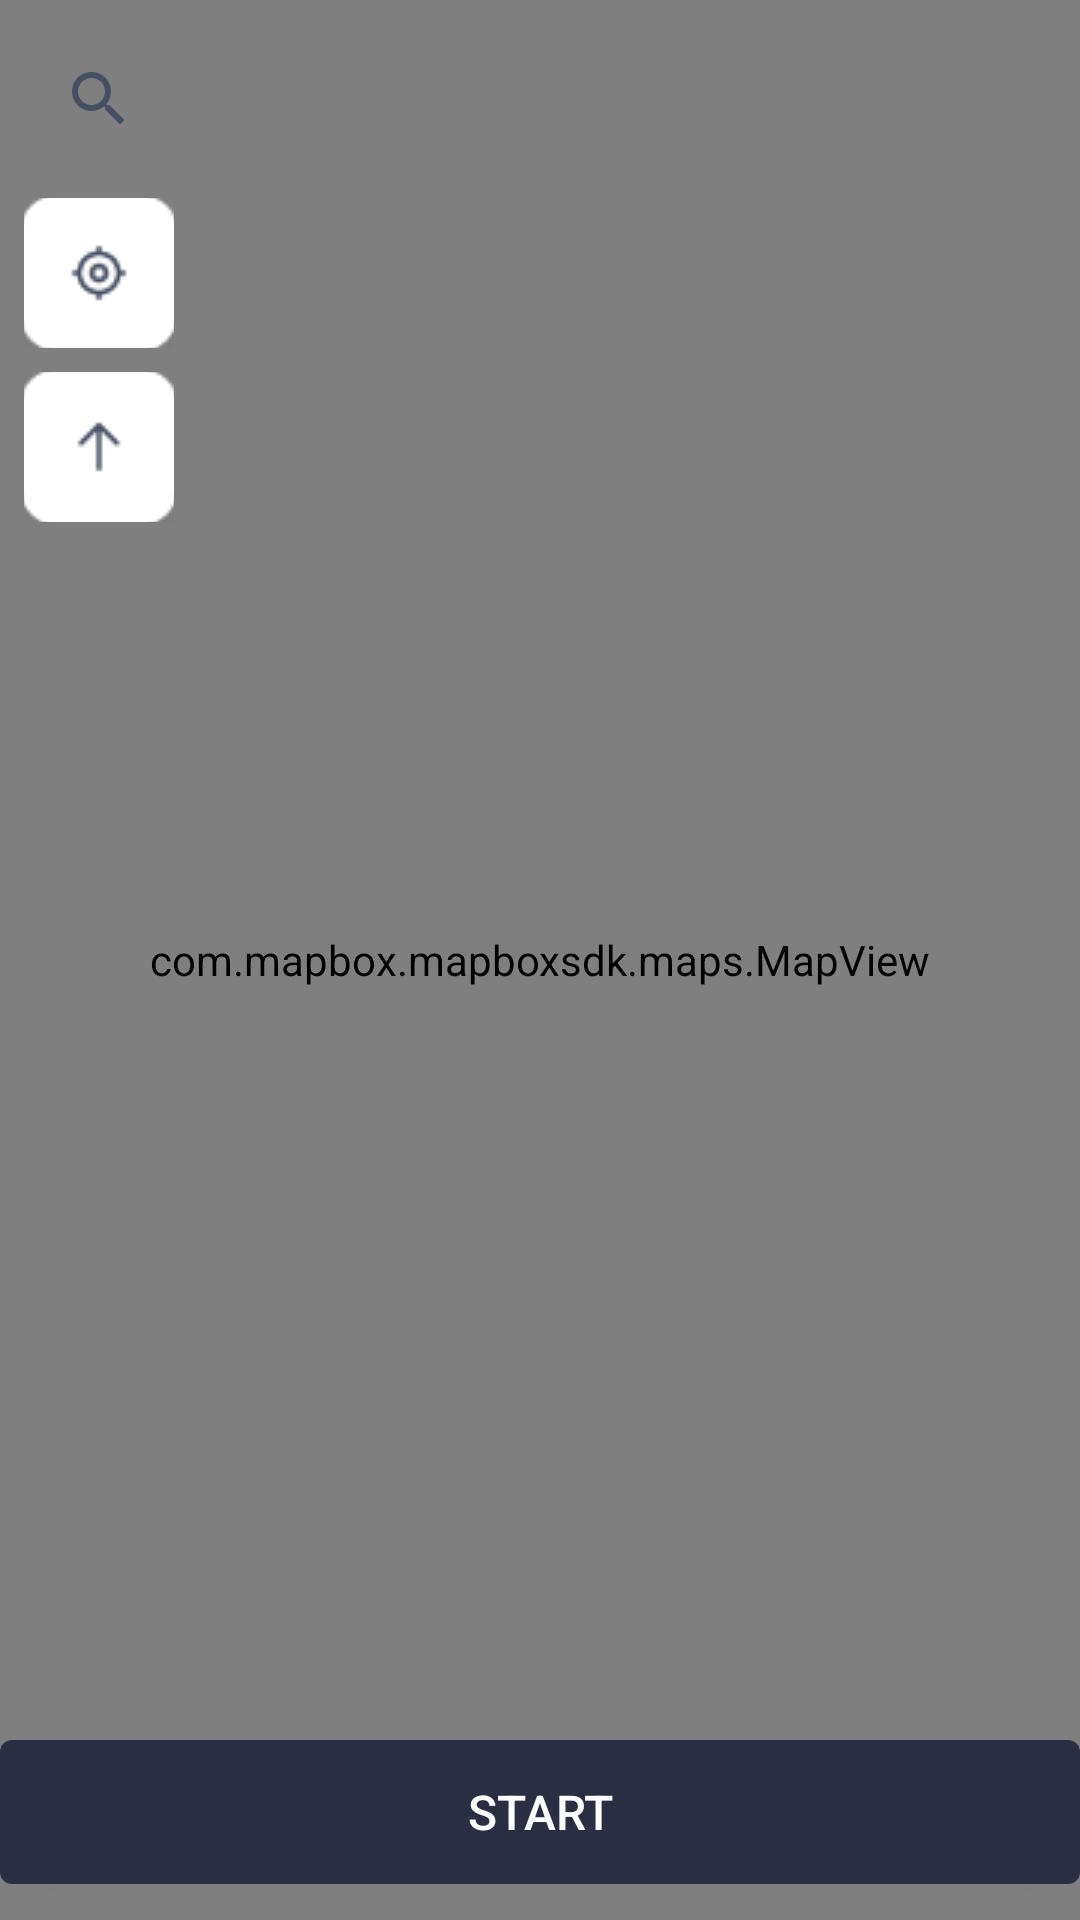

Where to tap for icons on this 1080*1920 app screen, as [x,y]:
getlocation: [99,273]
search: [98,98]
